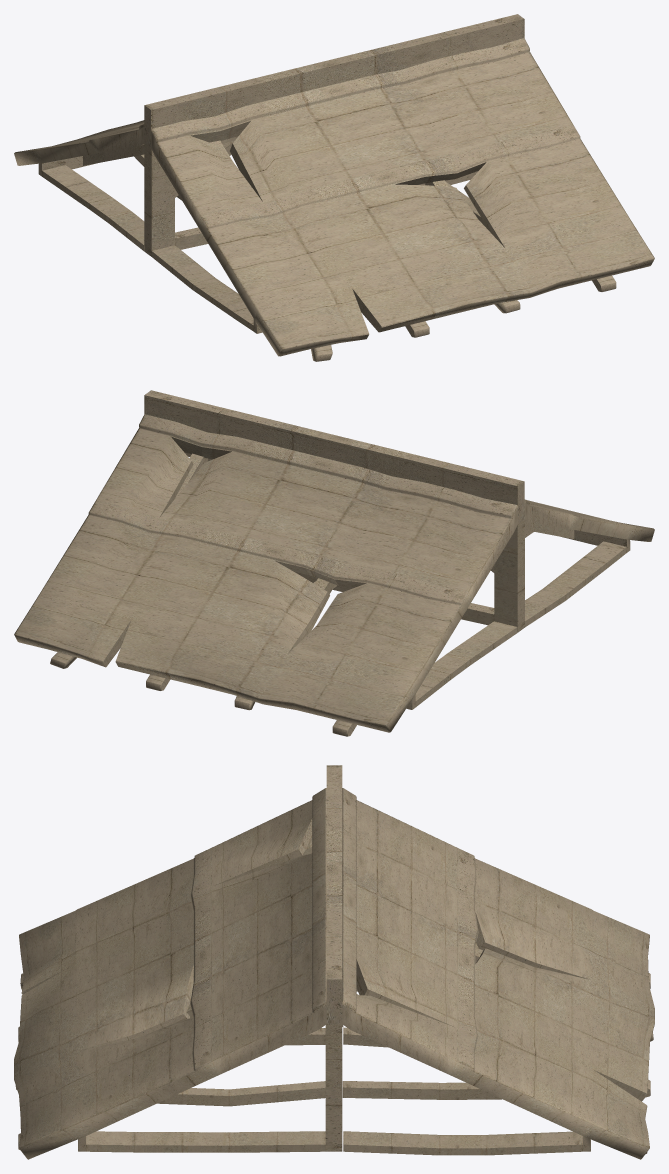
Rendered from roof.glb.
3 renders of one model, top to bottom at view 1: azimuth 30°, elevation 25°; view 2: azimuth 150°, elevation 25°; view 3: azimuth 270°, elevation 25°, orthographic. The views are drawn at different scales.
Parts seen in each view (by area): view 1: S_Farm_Barn_Roof_Peak1; view 2: S_Farm_Barn_Roof_Peak1; view 3: S_Farm_Barn_Roof_Peak1.
Part boxes in pixels (bbox=[...]): S_Farm_Barn_Roof_Peak1: bbox=[14, 14, 654, 361]; S_Farm_Barn_Roof_Peak1: bbox=[14, 390, 654, 736]; S_Farm_Barn_Roof_Peak1: bbox=[14, 765, 654, 1159].
Size of the model in its own units: 5.12 by 2.2 by 6.48.
1 material, 1 textured.
